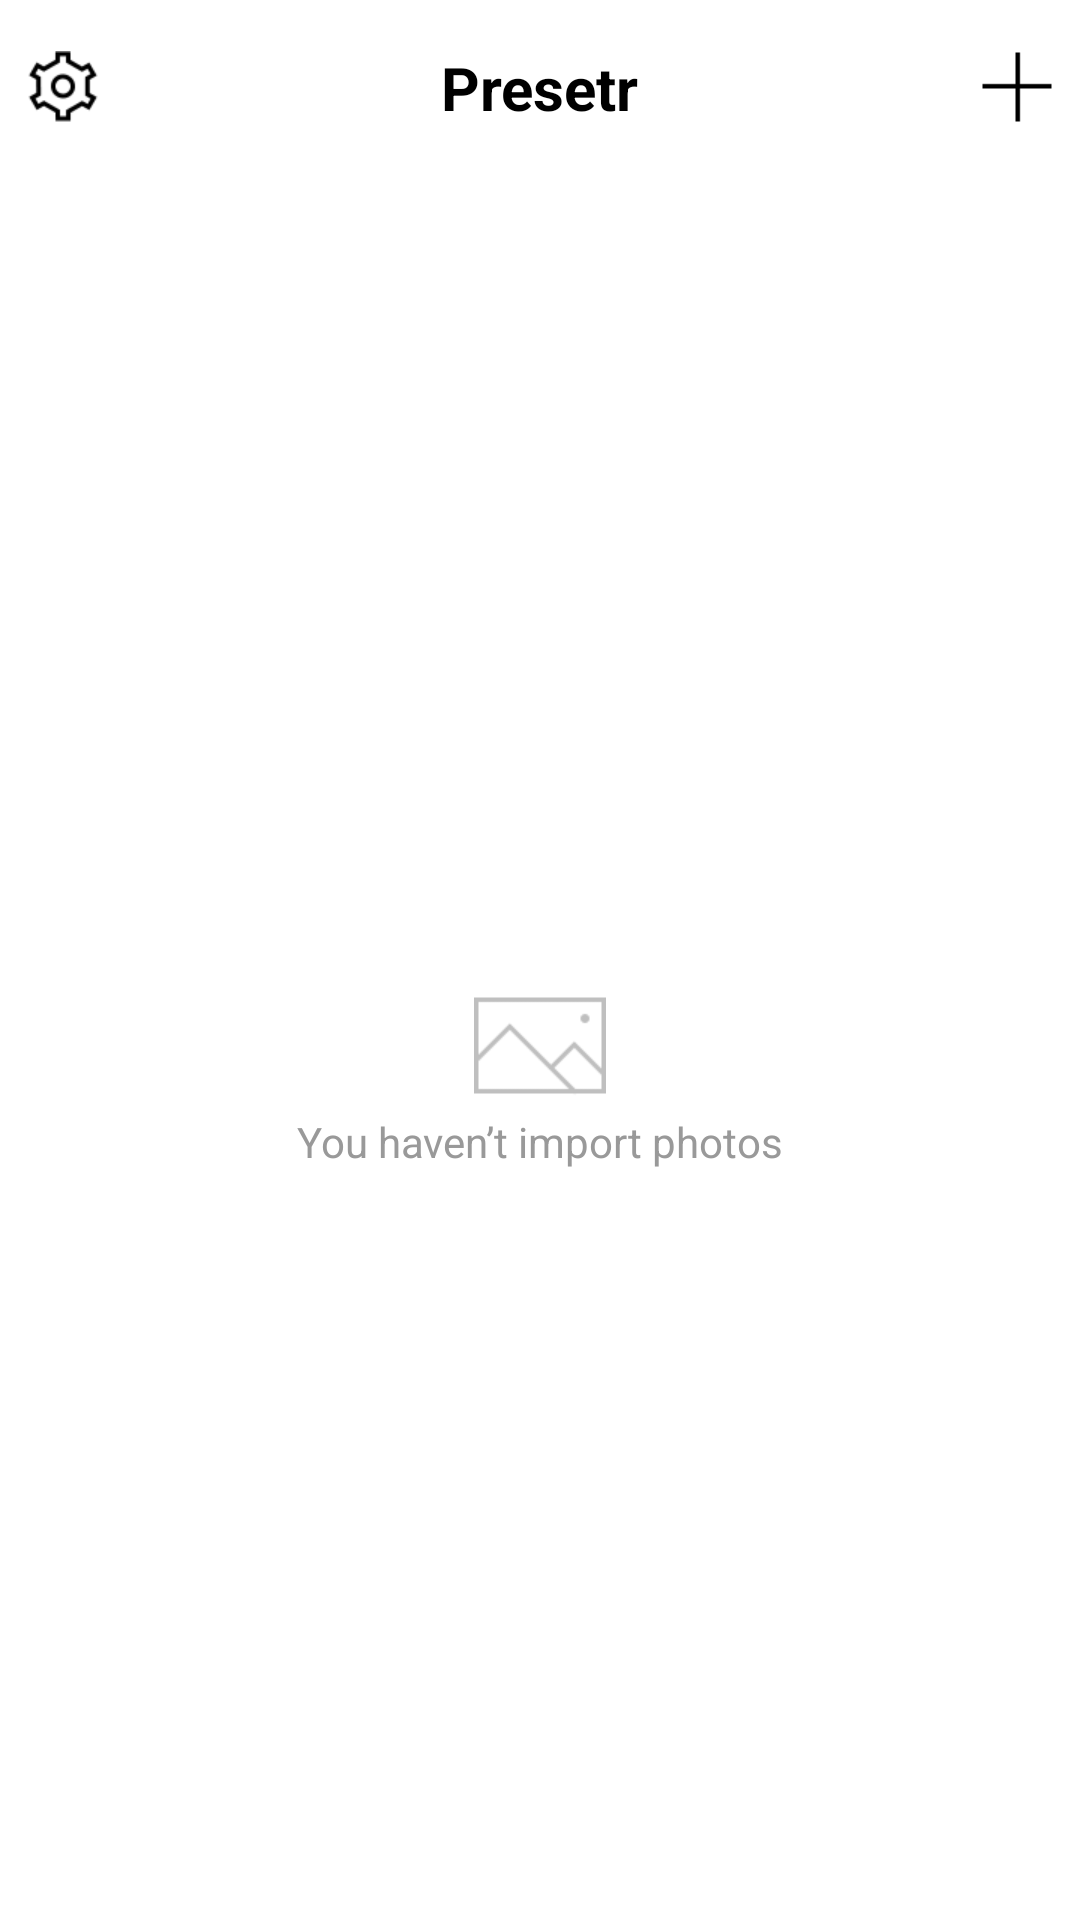

Icon click points for this 1080px x 1920px phone screenshot, format [x,y]:
hint photos: [540,1045]
import: [1017,87]
seting: [63,86]
